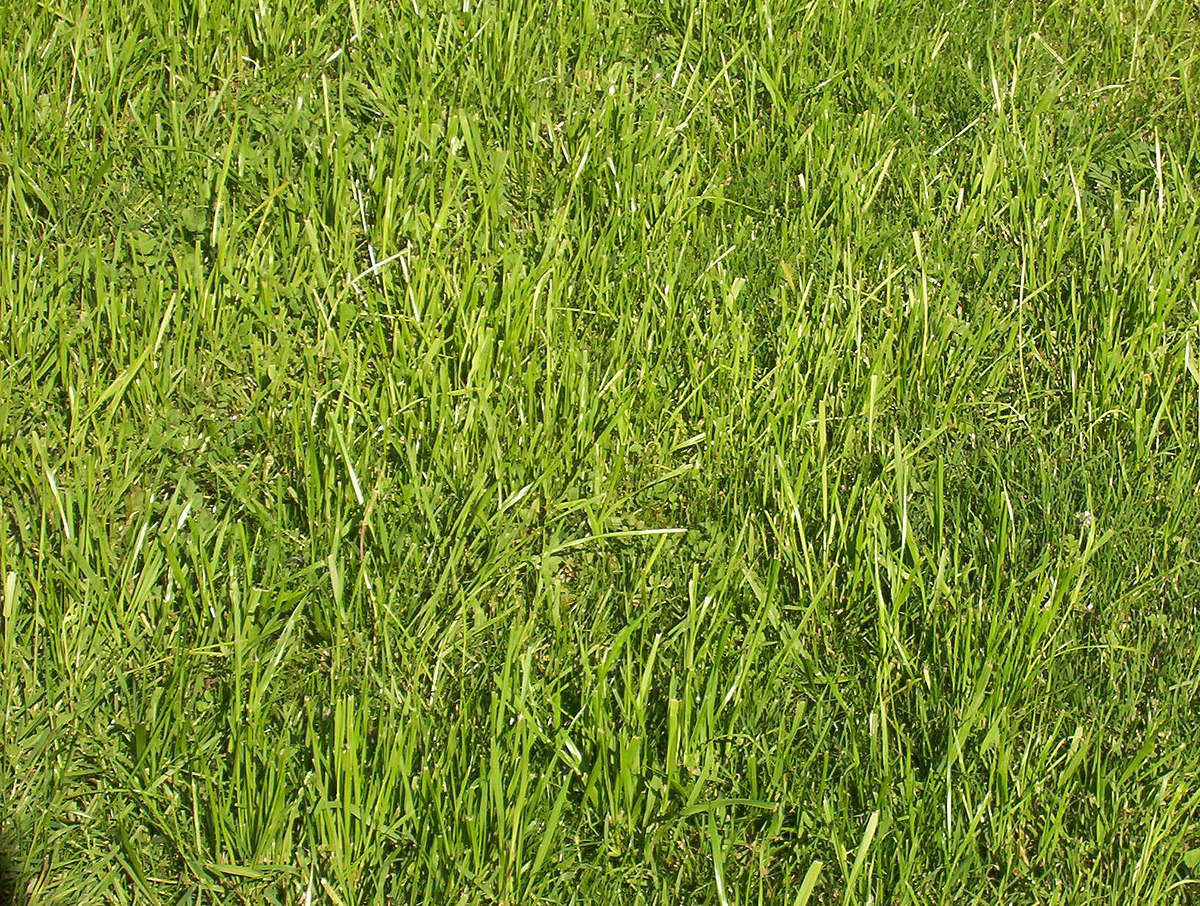grass: (2, 1, 1200, 902)
